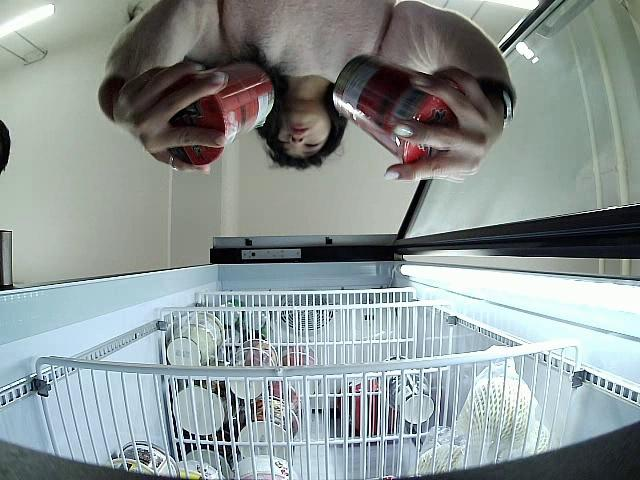00_hand: (383, 62, 493, 180), (117, 66, 232, 176)
02_shinRamen_S: (332, 54, 458, 166), (170, 61, 275, 167)
